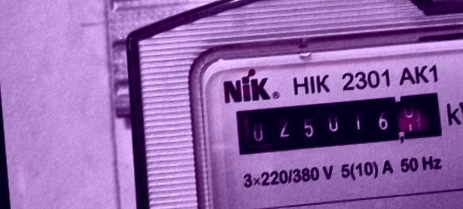0: (325, 108, 341, 132), (250, 119, 265, 142), (401, 97, 414, 118)
1: (350, 105, 363, 131), (404, 120, 413, 132)
2: (275, 113, 290, 137)
5: (301, 114, 313, 136)
6: (374, 106, 389, 132)
screen: (225, 81, 451, 161)
